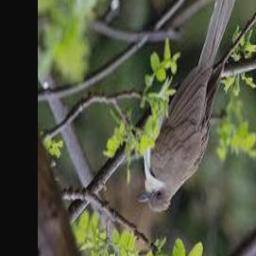Cuckoo: (137, 0, 242, 214)
